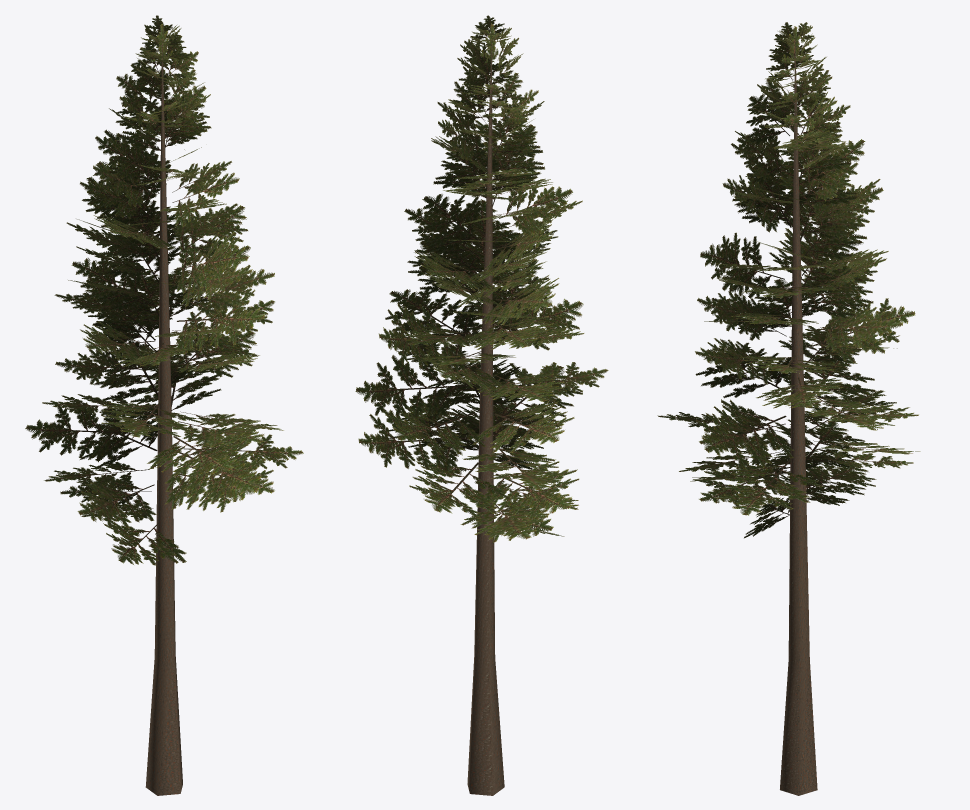
The model's file is fir_giant_a_lod4.gltf.
The picture shows the model from 3 angles, left to right: view 1: azimuth 30°, elevation 25°; view 2: azimuth 150°, elevation 25°; view 3: azimuth 270°, elevation 25°; orthographic projection.
Parts seen in each view (by area): view 1: fir_giant_a_LOD4; view 2: fir_giant_a_LOD4; view 3: fir_giant_a_LOD4.
Part boxes in pixels (left/top/right/bottom): fir_giant_a_LOD4: left=25, top=15, right=303, bottom=795; fir_giant_a_LOD4: left=355, top=15, right=608, bottom=795; fir_giant_a_LOD4: left=657, top=22, right=920, bottom=795.
Size of the model in its own units: 14.9 by 40.6 by 14.54.
Materials: 2 (2 with a texture image).
